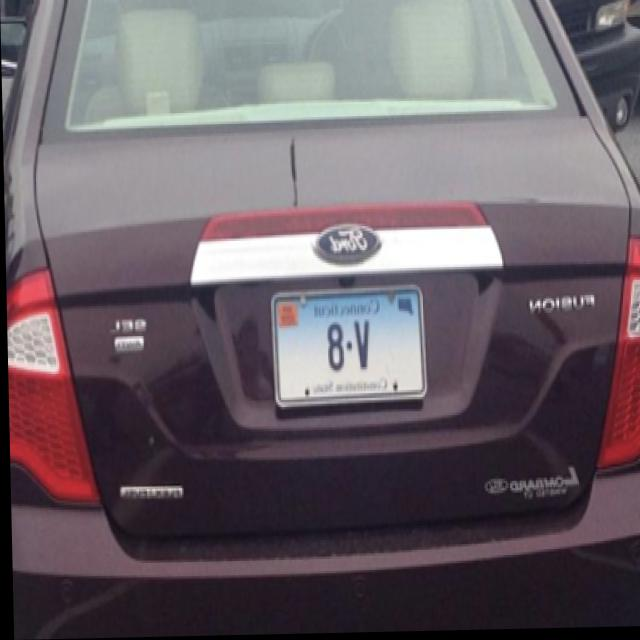licence: (276, 284, 422, 397)
